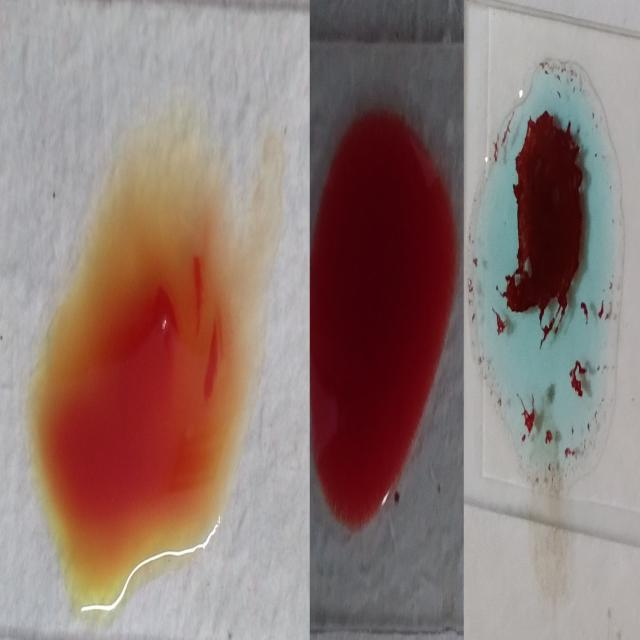A: (475, 58, 623, 470)
